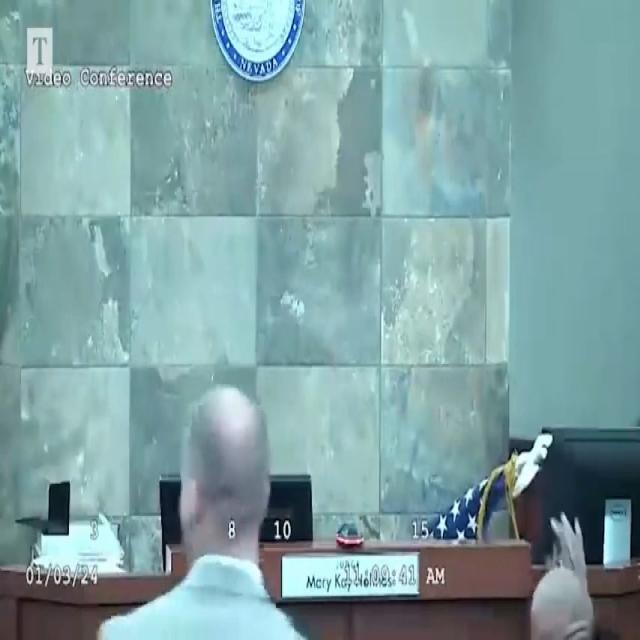non-fight: (87, 373, 321, 640)
